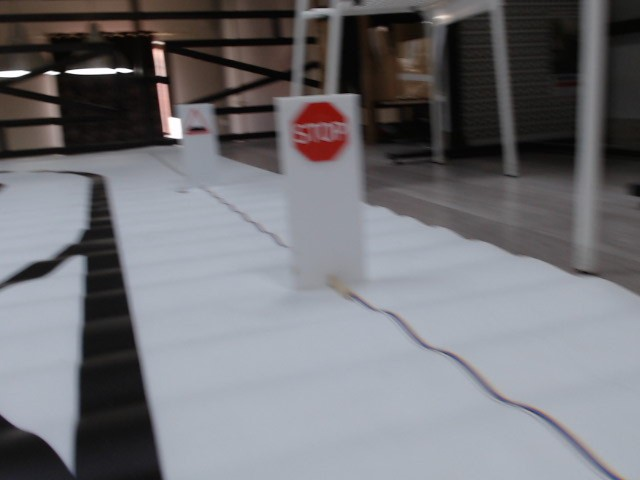Nerov: (182, 107, 211, 137)
Stop: (291, 101, 353, 163)
